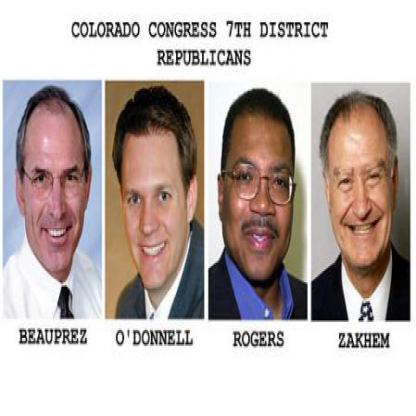face: (224, 91, 298, 282), (122, 98, 189, 294), (25, 94, 89, 274), (329, 99, 395, 271)
